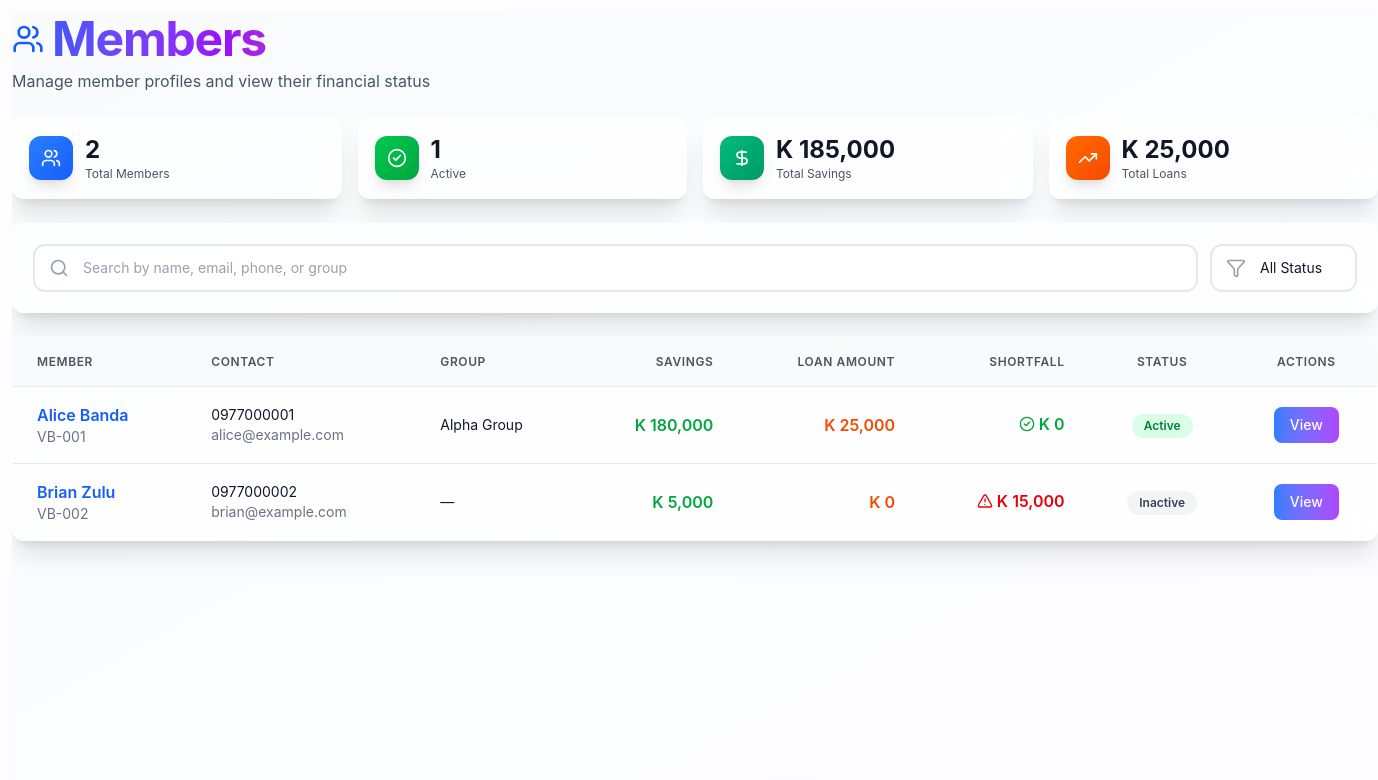
Members page › filters members by status
Select "Inactive" in the dropdown showing "All Status" at (1284, 268), box [1210,244,1357,292]
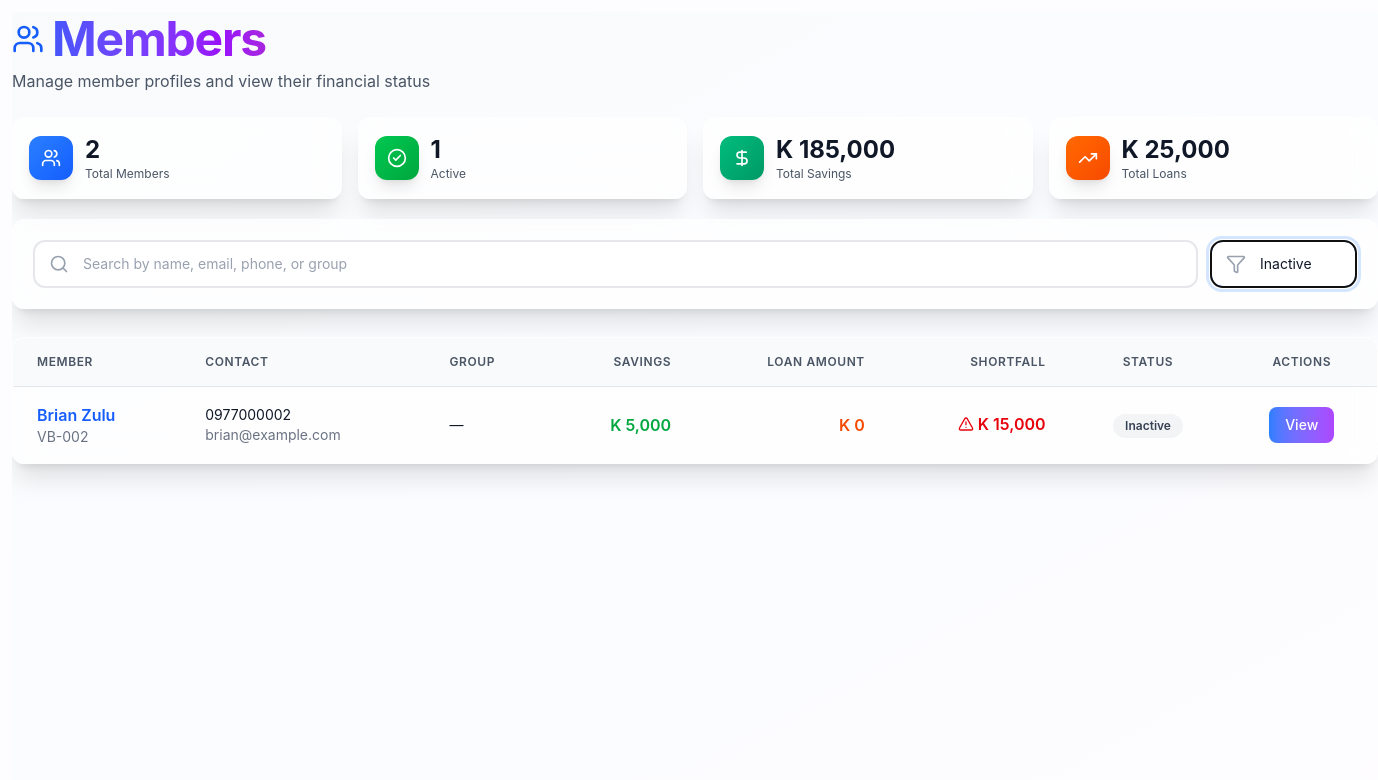
Expected: no links "Alice Banda" are shown
